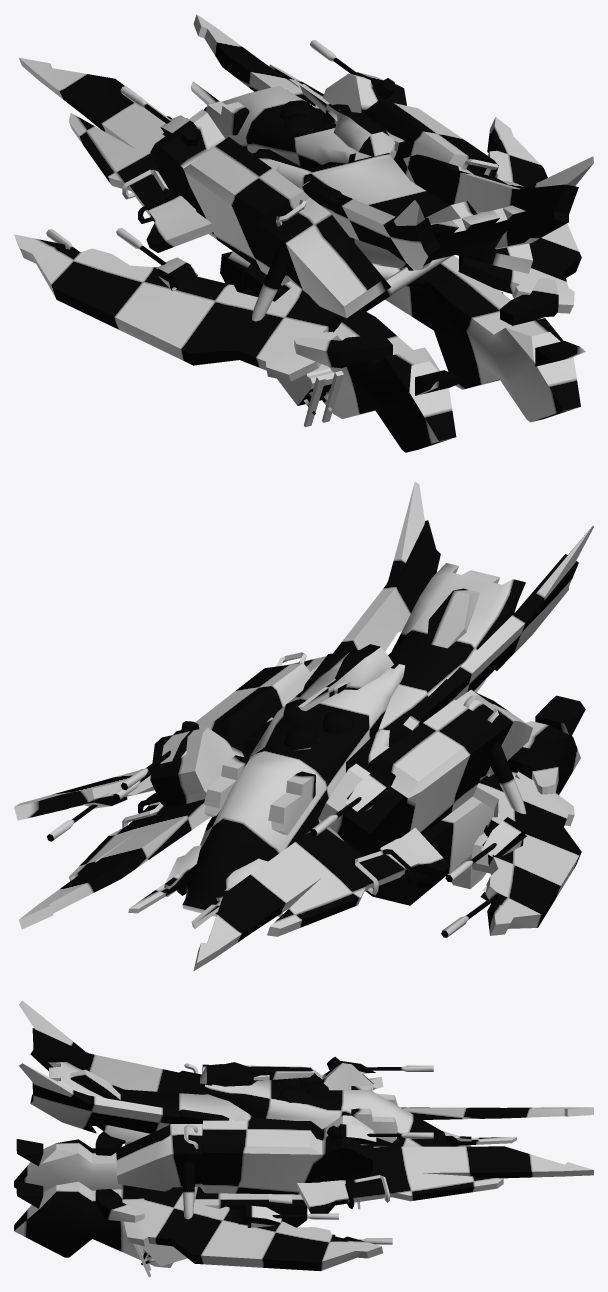
File: vengeance_pusat.obj
3 views of the same model, one above another, from view 1: azimuth 30°, elevation 25°; view 2: azimuth 150°, elevation 25°; view 3: azimuth 270°, elevation 25° (orthographic). The views are drawn at different scales.
Visible parts, largest first — view 1: turkish_ship_design_lowpoly001; view 2: turkish_ship_design_lowpoly001; view 3: turkish_ship_design_lowpoly001.
Boxes of the visible parts, x1,y1,x2,y2 form: turkish_ship_design_lowpoly001: [14, 14, 593, 452]; turkish_ship_design_lowpoly001: [14, 481, 593, 970]; turkish_ship_design_lowpoly001: [14, 1000, 593, 1277].
Size of the model in its own units: 124 by 70.79 by 175.
Materials: 1 (1 with a texture image).
